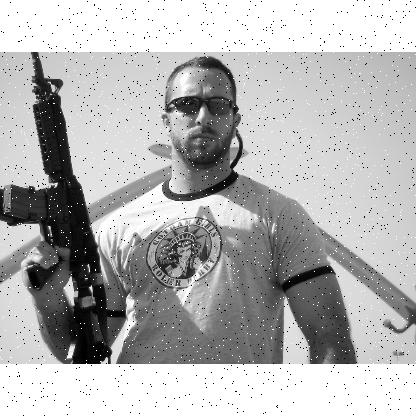gun: (0, 51, 111, 363)
